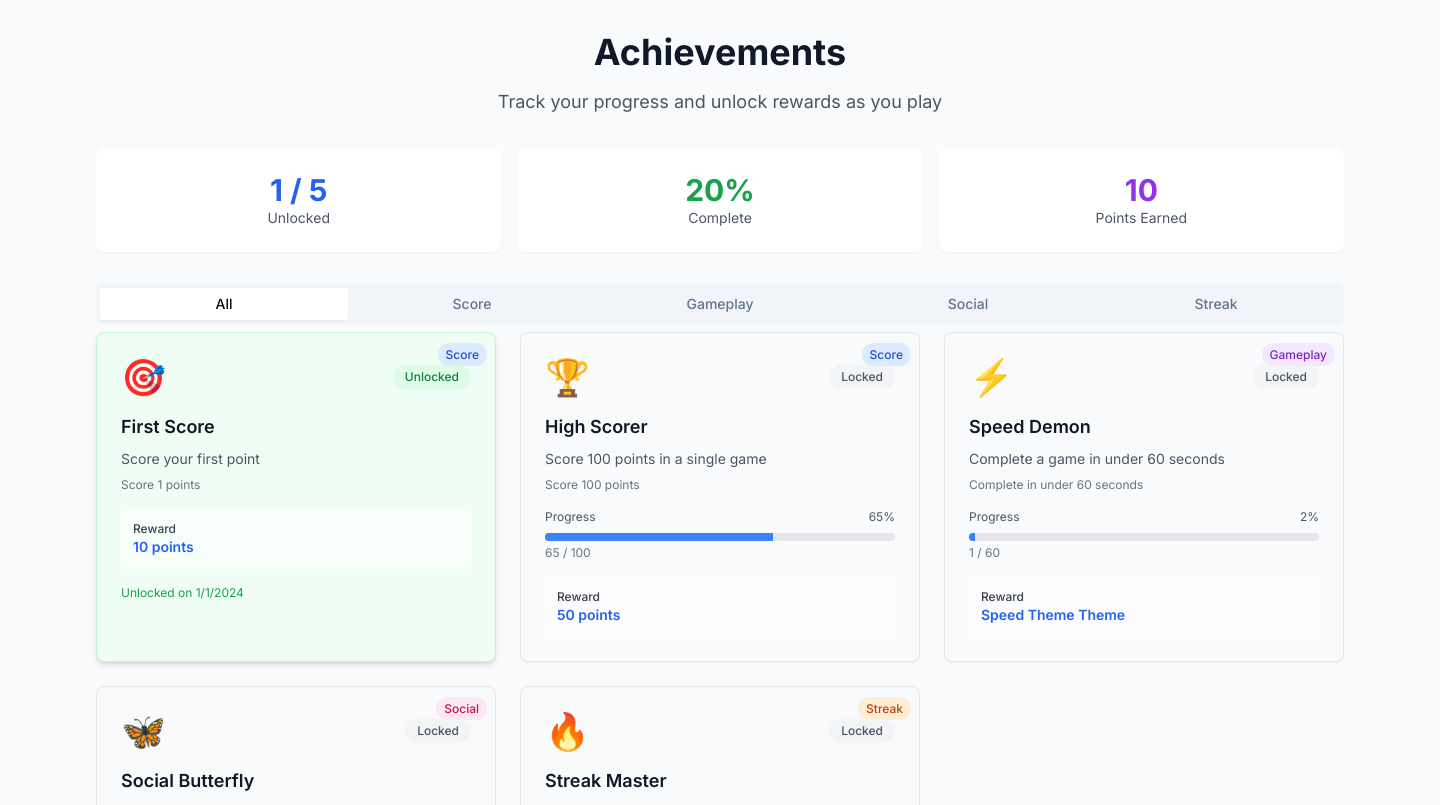
Scenario: AchievementsPage › Performance › should memoize filtered achievements
The width and height of the screenshot is (1440, 805).
Expected: the heading "First Score" is shown, [121, 416, 215, 437]
Changing tabs should not cause unnecessary re-renders
Click the tab "Score".
click(472, 304)  # box [348, 288, 596, 320]
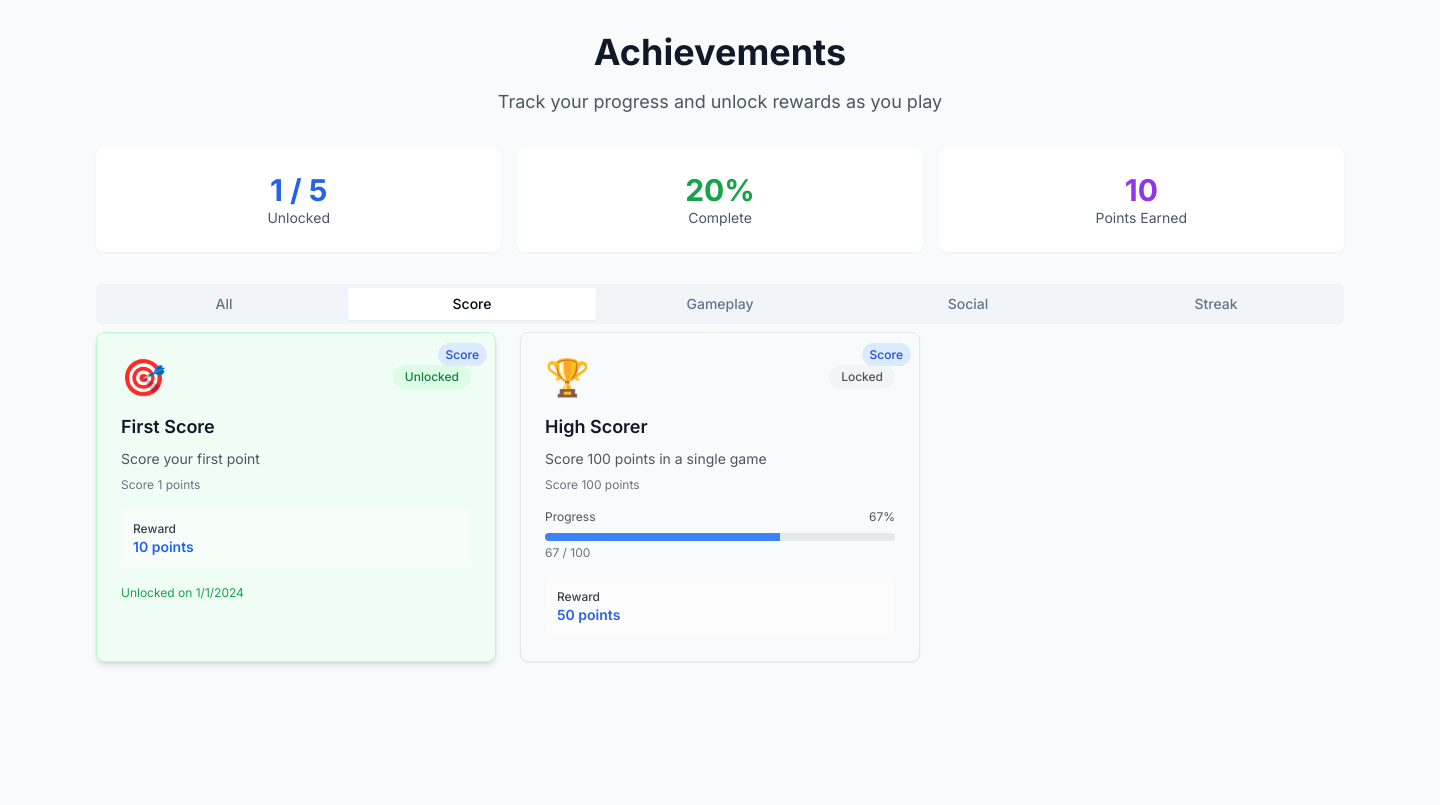
Click the tab "All".
click(224, 304)  # box [100, 288, 348, 320]
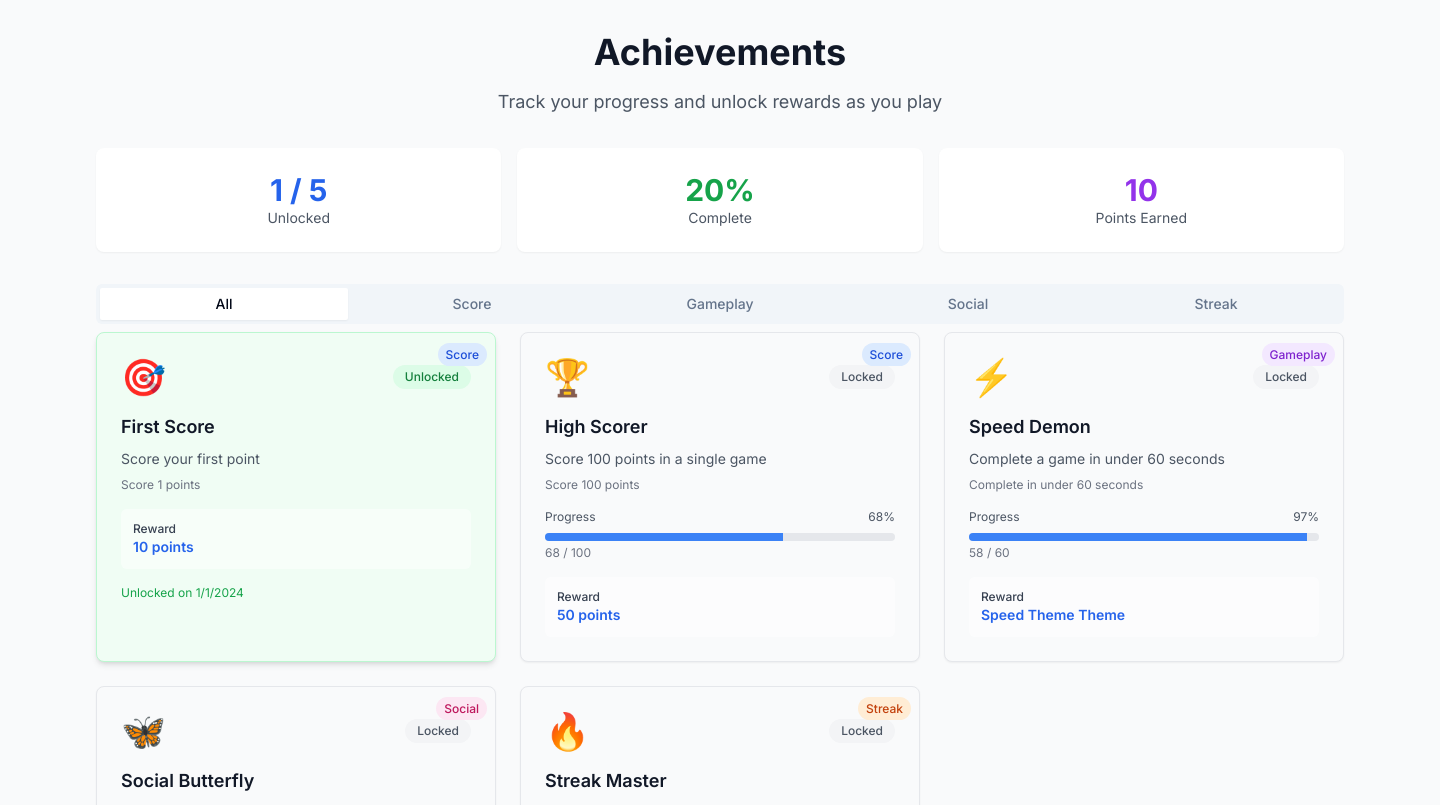
Expected: the heading "First Score" is shown, [121, 416, 215, 437]
Now the heading "Speed Demon" is shown, box [969, 416, 1091, 437]
